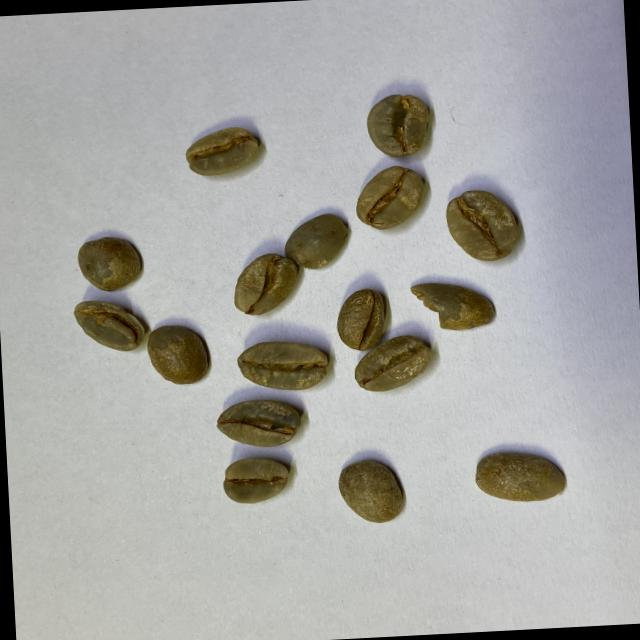bad: (410, 276, 500, 336), (72, 295, 146, 355)
good: (443, 188, 525, 264), (234, 334, 329, 394), (472, 448, 568, 507), (335, 455, 407, 527), (216, 394, 306, 451), (352, 334, 434, 394), (354, 165, 428, 231), (364, 91, 433, 160), (231, 252, 303, 318), (280, 211, 354, 272), (76, 233, 146, 296), (183, 124, 264, 178), (146, 322, 212, 388), (222, 454, 292, 506), (336, 286, 392, 351)
